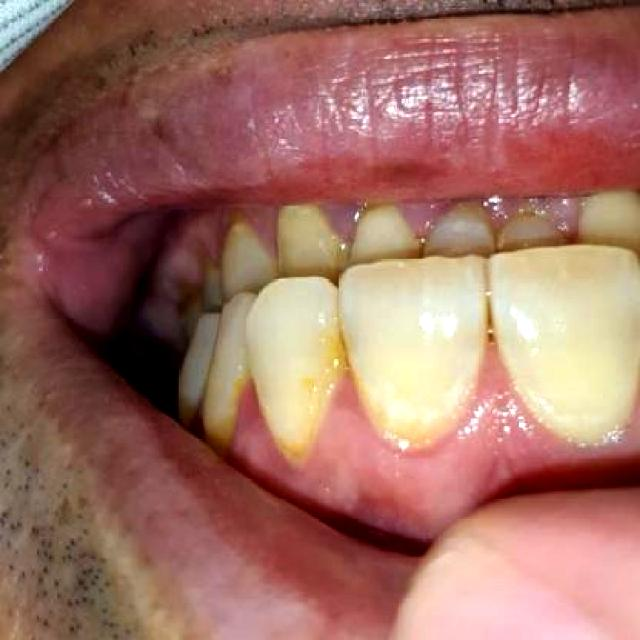Plaque: (249, 357, 504, 502)
